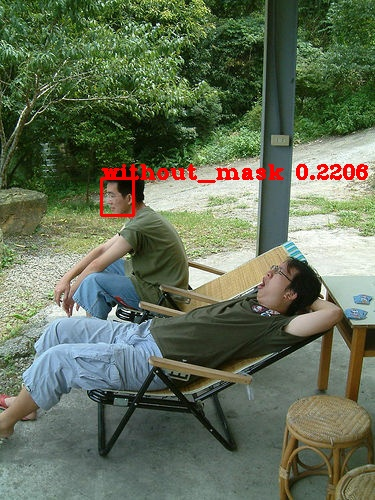without_mask: (252, 257, 318, 318), (100, 173, 148, 221)
